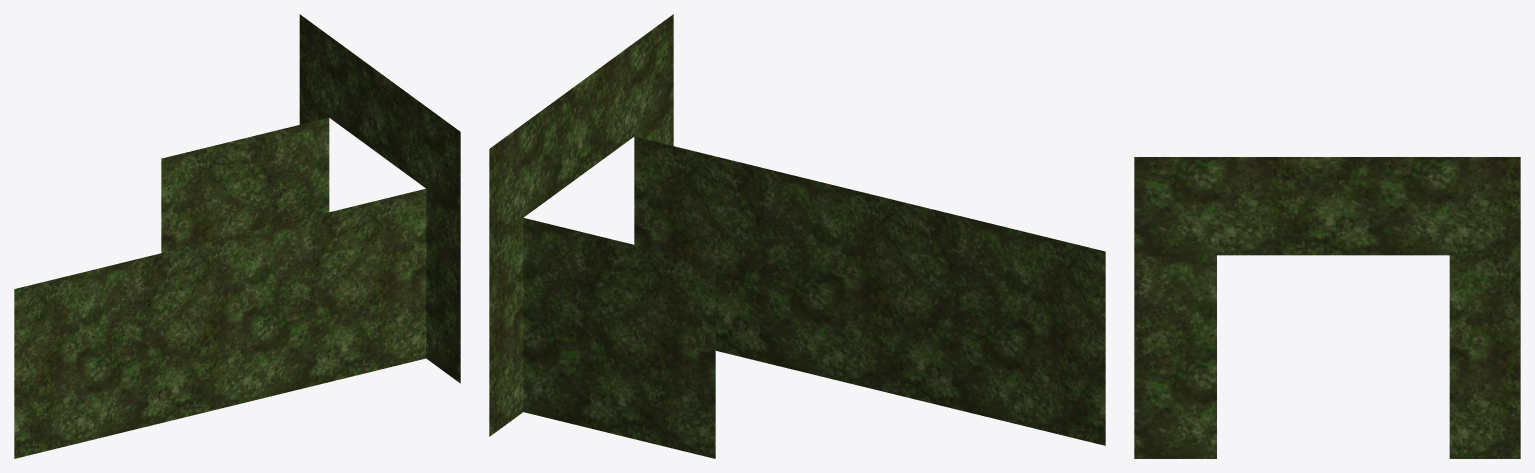
The model's file is OVERHILL_A_01_OBJECT266.fbx.
3 renders of one model, left to right at view 1: azimuth 30°, elevation 25°; view 2: azimuth 150°, elevation 25°; view 3: azimuth 270°, elevation 25°, orthographic. The views are drawn at different scales.
Parts seen in each view (by area): view 1: OVERHILL_A_01_OBJECT266; view 2: OVERHILL_A_01_OBJECT266; view 3: OVERHILL_A_01_OBJECT266.
Part boxes in pixels (x1,y1,x2,y2): OVERHILL_A_01_OBJECT266: [14, 14, 460, 458]; OVERHILL_A_01_OBJECT266: [489, 14, 1105, 458]; OVERHILL_A_01_OBJECT266: [1134, 157, 1520, 458].
Size of the model in its own units: 80000 by 46739 by 54178.
Materials: 1 (1 with a texture image).
